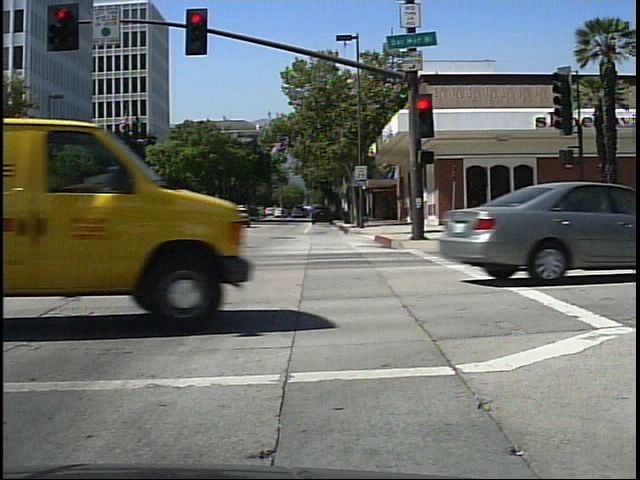person: (278, 204, 291, 222)
